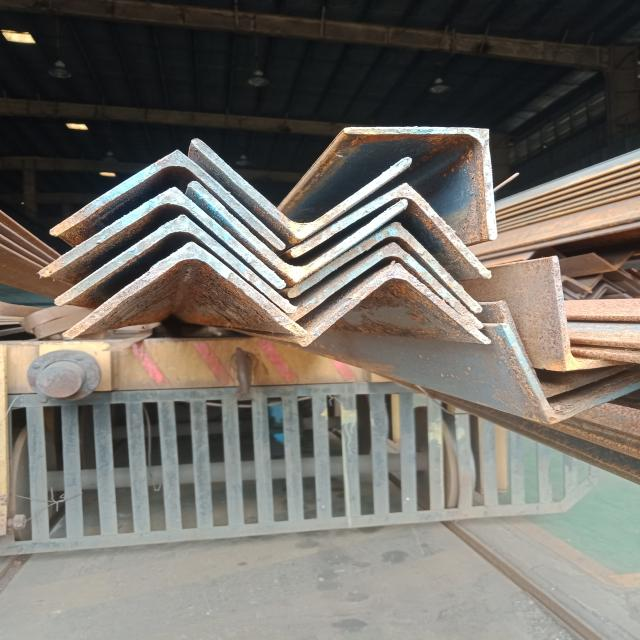metal-angles: (39, 186, 285, 289), (63, 241, 308, 341), (54, 214, 295, 313), (50, 149, 286, 250), (192, 138, 412, 241), (190, 181, 408, 283), (292, 183, 492, 279), (287, 222, 485, 314), (344, 127, 497, 240), (290, 242, 485, 328), (300, 261, 492, 347), (502, 322, 640, 425)
